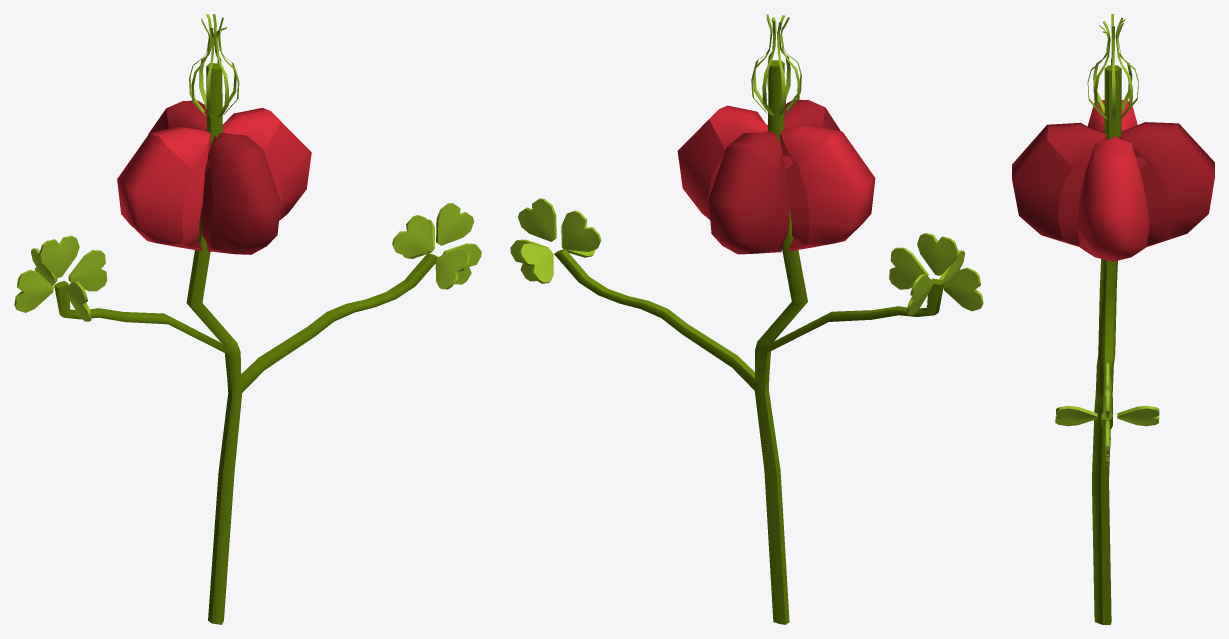
The model's file is Planta_Fechada.fbx.
The picture shows the model from 3 angles, left to right: view 1: azimuth 30°, elevation 25°; view 2: azimuth 150°, elevation 25°; view 3: azimuth 270°, elevation 25°; orthographic projection.
Visible parts, largest first — view 1: pCube1, pCube25, pCube26, pCube23, pCube24, pCube3, pCube10, pCube2, pCube7, pCube8, pCube6; view 2: pCube1, pCube25, pCube24, pCube23, pCube3, pCube10, pCube7, pCube2, pCube26, pCube8, pCube5; view 3: pCube24, pCube26, pCube23, pCube1, pCube6, pCube5, pCube25, pCube14, pCube15, pCube13.
Part boxes in pixels (x1=…): pCube1: x1=54, y1=63, x2=437, y2=624; pCube25: x1=117, y1=126, x2=210, y2=251; pCube26: x1=201, y1=133, x2=280, y2=254; pCube23: x1=222, y1=107, x2=311, y2=220; pCube24: x1=148, y1=100, x2=206, y2=134; pCube3: x1=436, y1=203, x2=473, y2=245; pCube10: x1=39, y1=235, x2=79, y2=277; pCube2: x1=392, y1=215, x2=429, y2=255; pCube7: x1=14, y1=269, x2=53, y2=312; pCube8: x1=68, y1=250, x2=107, y2=291; pCube6: x1=435, y1=249, x2=469, y2=289; pCube1: x1=554, y1=60, x2=944, y2=624; pCube25: x1=779, y1=124, x2=875, y2=251; pCube24: x1=708, y1=131, x2=789, y2=254; pCube23: x1=677, y1=105, x2=767, y2=219; pCube3: x1=518, y1=198, x2=556, y2=241; pCube10: x1=917, y1=233, x2=958, y2=275; pCube7: x1=943, y1=267, x2=983, y2=311; pCube2: x1=562, y1=210, x2=601, y2=251; pCube26: x1=784, y1=99, x2=840, y2=131; pCube8: x1=889, y1=247, x2=928, y2=289; pCube5: x1=519, y1=243, x2=553, y2=283; pCube24: x1=1119, y1=122, x2=1214, y2=246; pCube26: x1=1012, y1=122, x2=1106, y2=246; pCube23: x1=1076, y1=136, x2=1149, y2=261; pCube1: x1=1092, y1=65, x2=1121, y2=624; pCube6: x1=1055, y1=405, x2=1097, y2=426; pCube5: x1=1117, y1=405, x2=1159, y2=426; pCube25: x1=1087, y1=100, x2=1137, y2=132; pCube14: x1=1111, y1=26, x2=1115, y2=119; pCube15: x1=1116, y1=22, x2=1132, y2=118; pCube13: x1=1094, y1=31, x2=1110, y2=119.
Size of the model in its own units: 1482 by 1826 by 557.
